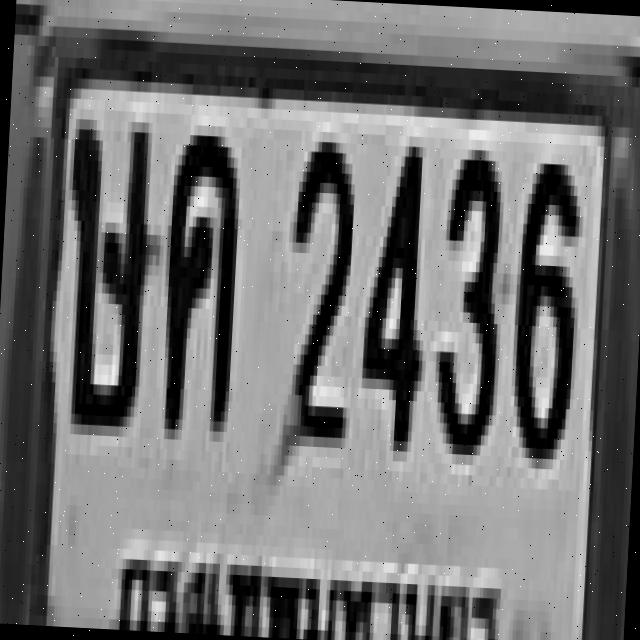13KhorKhwai: (158, 124, 240, 432)
2: (278, 130, 356, 438)
3: (428, 138, 504, 446)
4: (354, 134, 429, 442)
48SorRueSi: (57, 109, 153, 428)
6: (508, 153, 580, 450)
